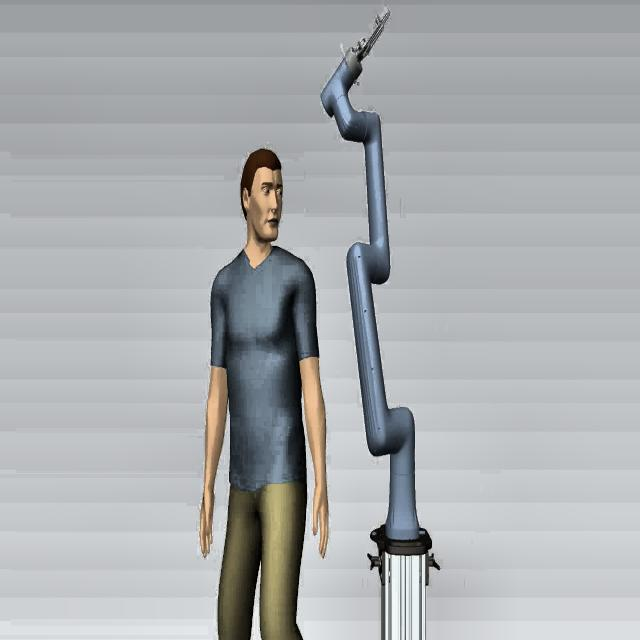robot: (320, 7, 440, 637)
